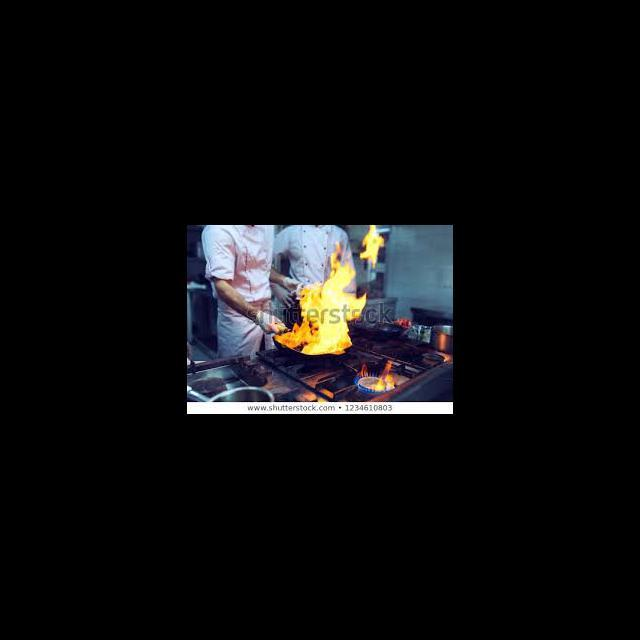Fire: (272, 242, 366, 360), (356, 360, 398, 394), (358, 226, 388, 270)
